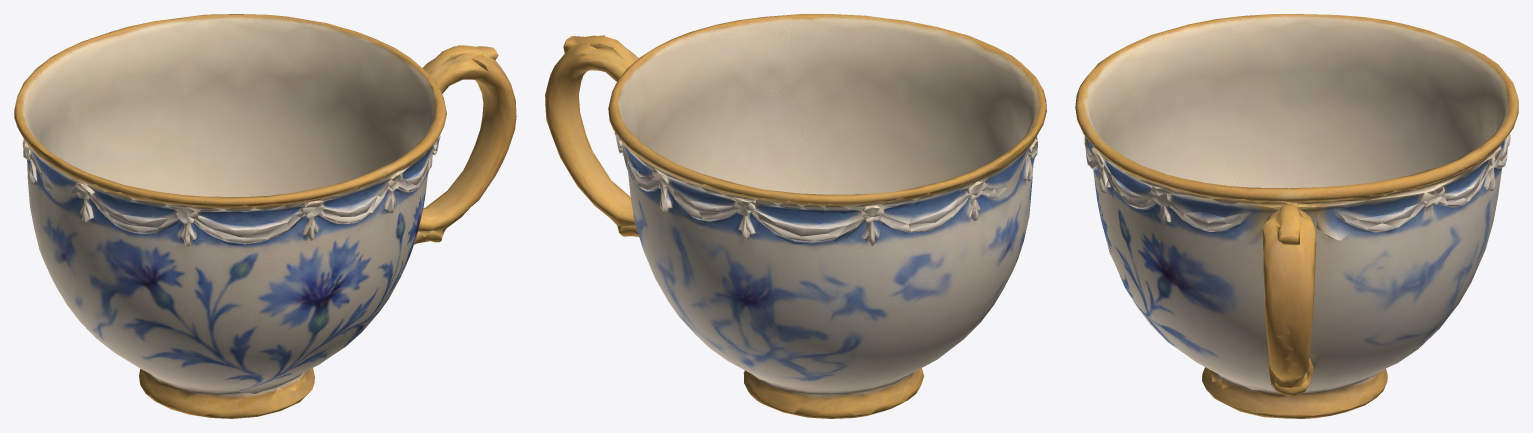
Rendered from cup.glb.
The picture shows the model from 3 angles, left to right: view 1: azimuth 30°, elevation 25°; view 2: azimuth 150°, elevation 25°; view 3: azimuth 270°, elevation 25°; orthographic projection. The views are drawn at different scales.
Parts seen in each view (by area): view 1: cup; view 2: cup; view 3: cup.
Boxes of the visible parts, x1,y1,x2,y2 form: cup: (14,14,516,418); cup: (545,14,1046,418); cup: (1075,14,1518,418).
Bounding box in the file's own units: 0.5705 × 0.3357 × 0.4638.
1 material, 1 textured.
